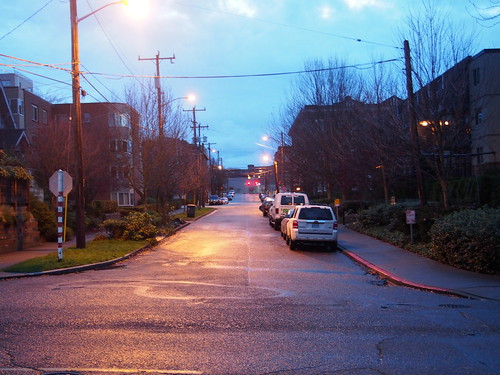building: (390, 49, 500, 186), (53, 105, 136, 212), (1, 79, 55, 206)
car: (282, 200, 340, 248)
sky: (22, 1, 471, 99)
street: (1, 202, 500, 375)
